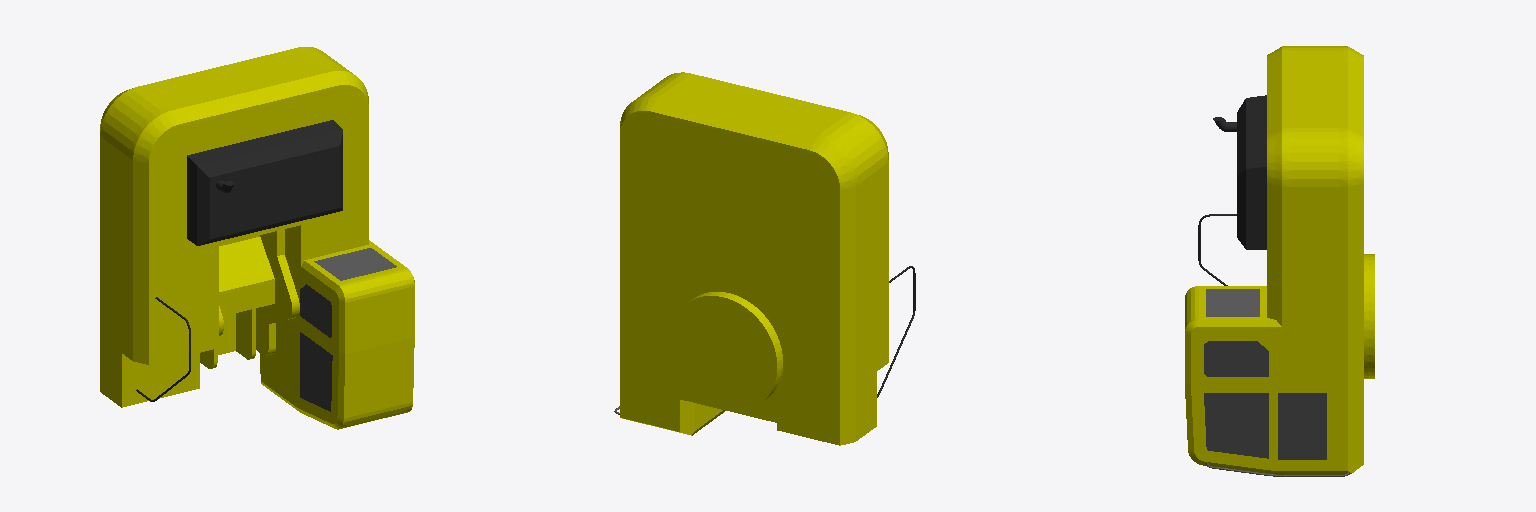
File: cabin.obj
3 renders of one model, left to right at view 1: azimuth 30°, elevation 25°; view 2: azimuth 150°, elevation 25°; view 3: azimuth 270°, elevation 25°, orthographic.
Parts seen in each view (by area): view 1: mesh_1_cabin, mesh_4_Sweep1, mesh_2_DeleteFace12_face, mesh_3_Split3; view 2: mesh_1_cabin; view 3: mesh_1_cabin, mesh_2_DeleteFace12_face, mesh_4_Sweep1, mesh_3_Split3.
Boxes of the visible parts, x1,y1,x2,y2 form: mesh_1_cabin: [100, 47, 414, 429]; mesh_4_Sweep1: [136, 120, 342, 401]; mesh_2_DeleteFace12_face: [300, 284, 332, 411]; mesh_3_Split3: [314, 248, 396, 280]; mesh_1_cabin: [620, 72, 888, 445]; mesh_1_cabin: [1185, 46, 1374, 474]; mesh_2_DeleteFace12_face: [1204, 341, 1326, 459]; mesh_4_Sweep1: [1198, 95, 1266, 285]; mesh_3_Split3: [1206, 289, 1348, 476].
Bounding box in the file's own units: 3.14 × 4.07 × 2.13.